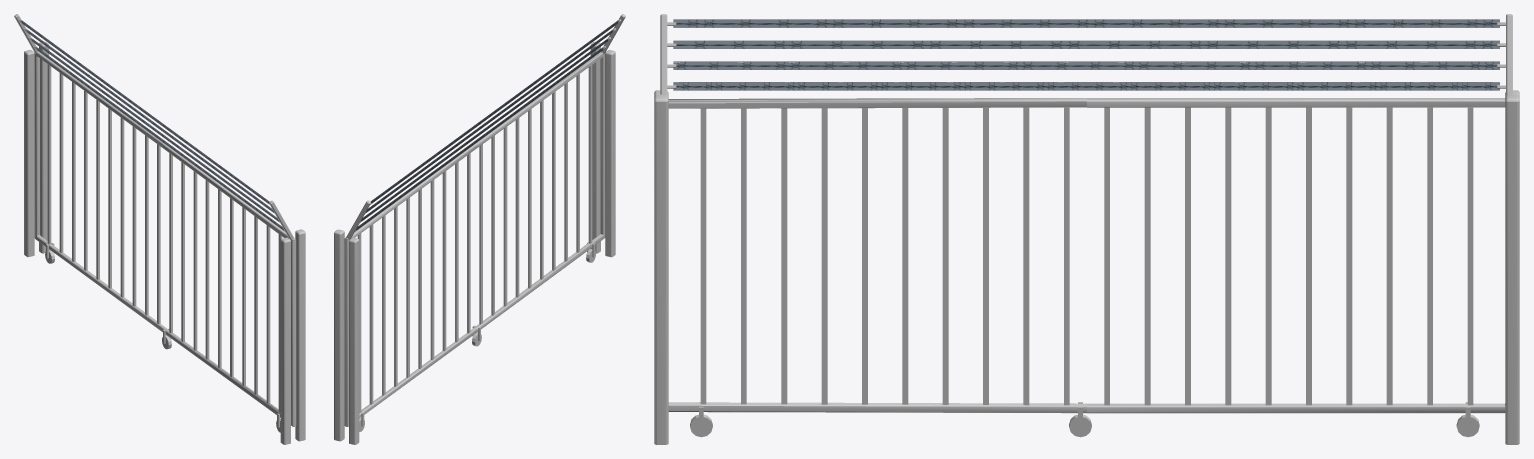
File: Gate.fbx
3 renders of one model, left to right at view 1: azimuth 30°, elevation 25°; view 2: azimuth 150°, elevation 25°; view 3: azimuth 270°, elevation 25°, orthographic. The views are drawn at different scales.
Parts seen in each view (by area): view 1: Gate, GateFrame; view 2: Gate, GateFrame; view 3: Gate, GateFrame.
Part boxes in pixels (x1=…): Gate: x1=14, y1=14, x2=296, y2=432; GateFrame: x1=24, y1=41, x2=305, y2=444; Gate: x1=344, y1=14, x2=625, y2=431; GateFrame: x1=334, y1=41, x2=615, y2=444; Gate: x1=660, y1=14, x2=1512, y2=437; GateFrame: x1=654, y1=90, x2=1519, y2=444.
Size of the model in its own units: 0.2413 by 1.66 by 3.22.
